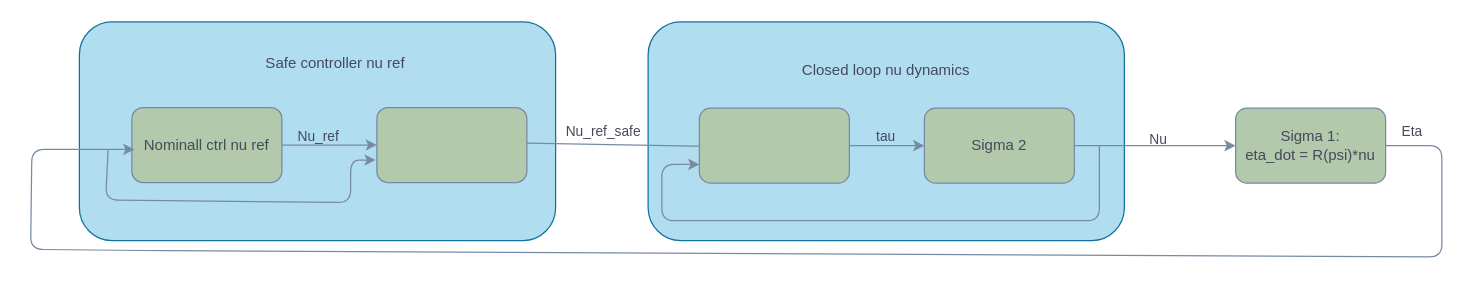
Image size: 1474x289. Some labels were removed from this diagram. Here are the shapes that lost their labels. From the top down, the centre of each, then its label:
At [451,144]: "CBF".
At [773,145]: "Controller nu".
